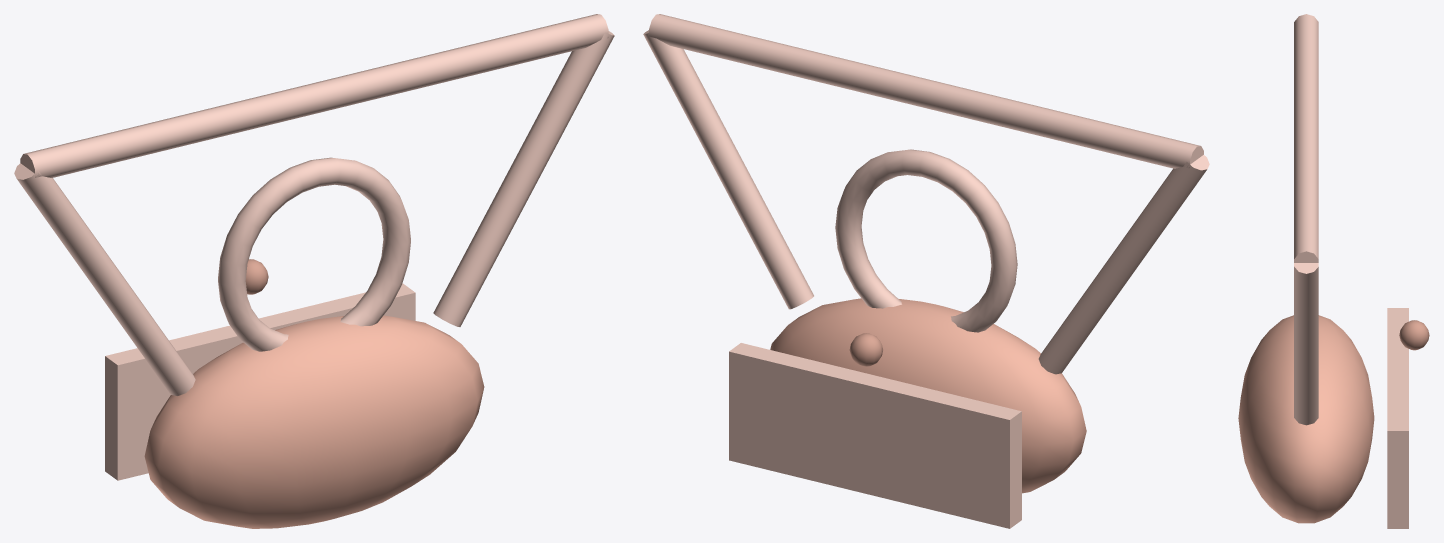
File: VM-NIN-SH41265532.glb
The picture shows the model from 3 angles, left to right: view 1: azimuth 30°, elevation 25°; view 2: azimuth 150°, elevation 25°; view 3: azimuth 270°, elevation 25°; orthographic projection. The views are drawn at different scales.
Parts seen in each view (by area): view 1: Bolso Cruzado Osito de Peluche; view 2: Bolso Cruzado Osito de Peluche; view 3: Bolso Cruzado Osito de Peluche.
Boxes of the visible parts, <box> form: Bolso Cruzado Osito de Peluche: <box>14,14,614,528</box>; Bolso Cruzado Osito de Peluche: <box>643,14,1209,528</box>; Bolso Cruzado Osito de Peluche: <box>1238,14,1429,528</box>.
Size of the model in its own units: 0.335 by 0.2322 by 0.1097.
